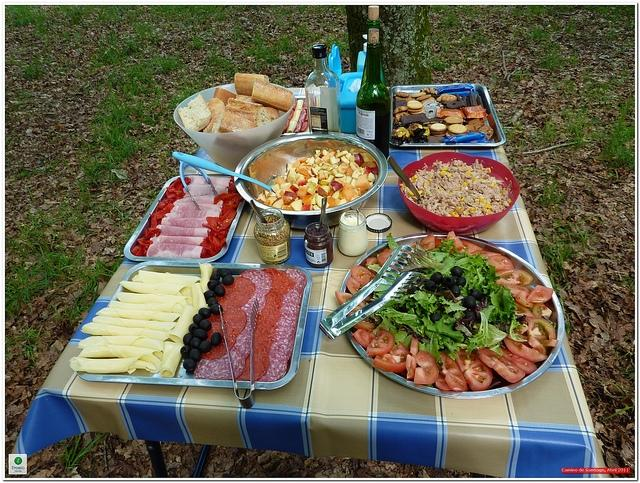lettuce: (420, 314, 464, 344), (464, 312, 490, 358), (488, 288, 518, 323), (428, 239, 468, 260), (479, 324, 508, 348), (376, 306, 418, 322), (455, 258, 484, 281), (414, 293, 442, 315), (439, 296, 467, 314), (434, 256, 456, 278), (480, 264, 500, 285), (397, 324, 419, 340), (382, 295, 408, 307), (428, 251, 449, 262), (482, 284, 501, 296), (386, 232, 398, 251), (414, 290, 432, 301), (406, 297, 416, 309)
tomato: (478, 348, 526, 383), (455, 348, 493, 392), (372, 342, 410, 373), (503, 337, 548, 362), (440, 353, 468, 392), (500, 346, 537, 374), (414, 350, 438, 384), (367, 328, 395, 356), (346, 276, 376, 302), (525, 316, 556, 340), (495, 269, 534, 286), (335, 291, 366, 311), (526, 284, 554, 304), (346, 312, 376, 330), (378, 248, 400, 271), (351, 265, 375, 286), (352, 329, 376, 349), (503, 284, 534, 298), (488, 255, 515, 271), (512, 302, 536, 318), (447, 232, 464, 254), (406, 354, 420, 380), (516, 291, 536, 308), (460, 240, 486, 253), (532, 303, 552, 319), (420, 232, 436, 251), (436, 374, 452, 391), (470, 250, 502, 258), (434, 237, 446, 248), (367, 257, 378, 265)
